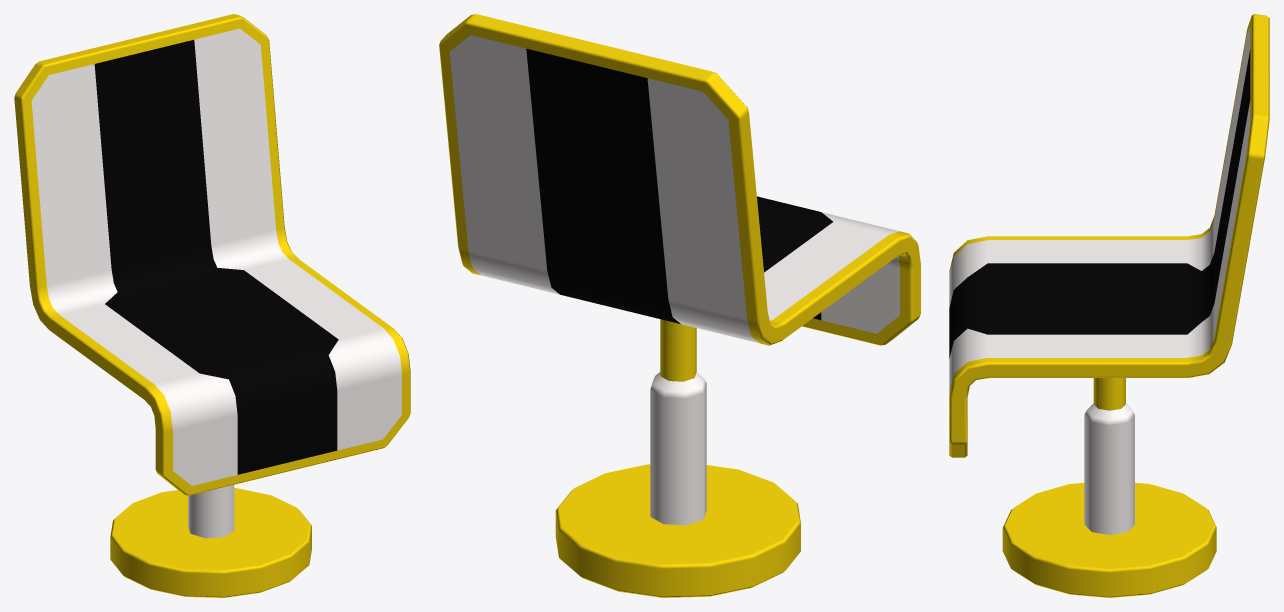
Rendered from SingleBench.fbx.
The picture shows the model from 3 angles, left to right: view 1: azimuth 30°, elevation 25°; view 2: azimuth 150°, elevation 25°; view 3: azimuth 270°, elevation 25°; orthographic projection. The views are drawn at different scales.
Visible parts, largest first — view 1: Chair002; view 2: Chair002; view 3: Chair002.
Boxes of the visible parts, x1,y1,x2,y2 form: Chair002: (14,14,410,597); Chair002: (439,14,920,597); Chair002: (949,14,1269,597).
Size of the model in its own units: 159 by 283 by 168.
